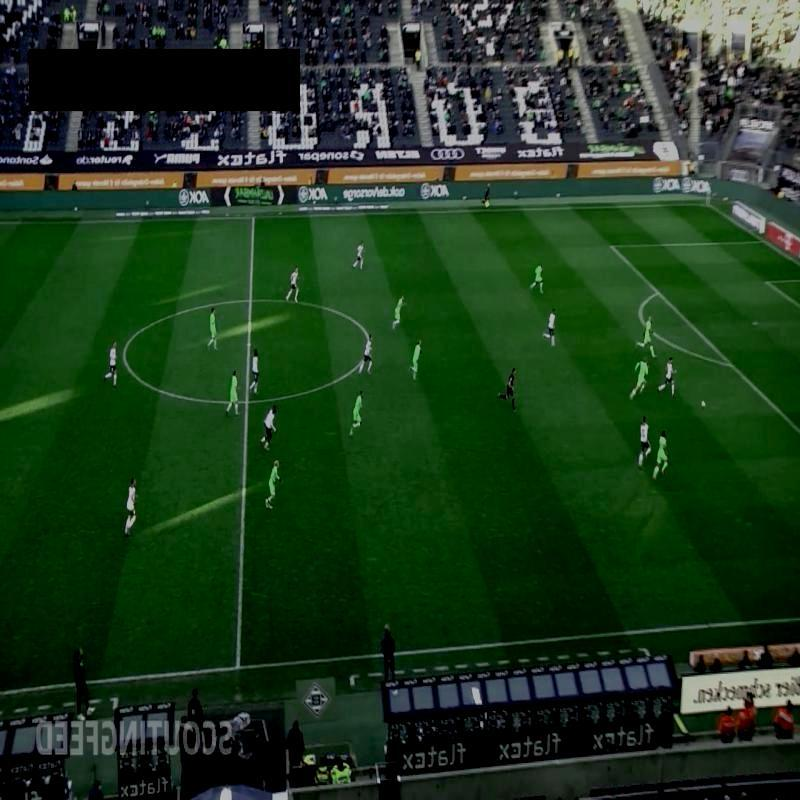1: (700, 199, 714, 213)
10: (652, 288, 666, 302)
11: (724, 359, 738, 373)
13: (248, 209, 262, 223)
14: (245, 292, 258, 306)
15: (240, 397, 254, 411)
16: (230, 658, 246, 677)
2: (756, 235, 770, 249)
7: (760, 275, 774, 289)
9: (604, 240, 618, 253)
c: (116, 345, 132, 367), (362, 334, 376, 348)
